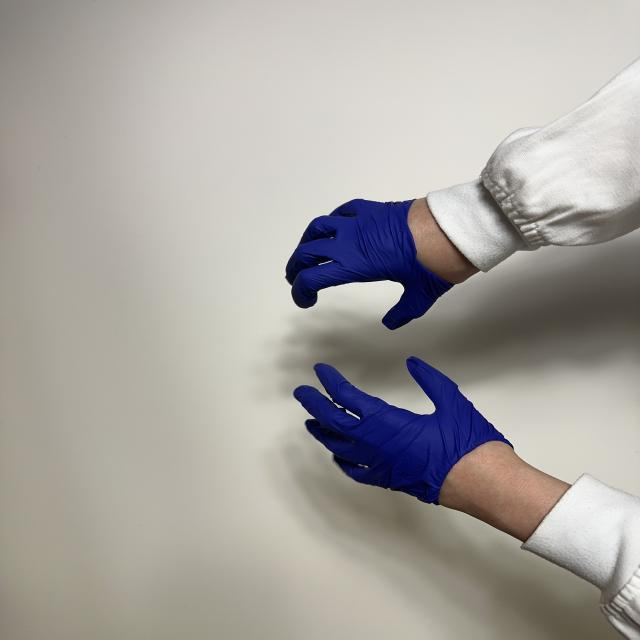glove_not_fitted: (290, 356, 570, 540), (282, 197, 488, 332)
